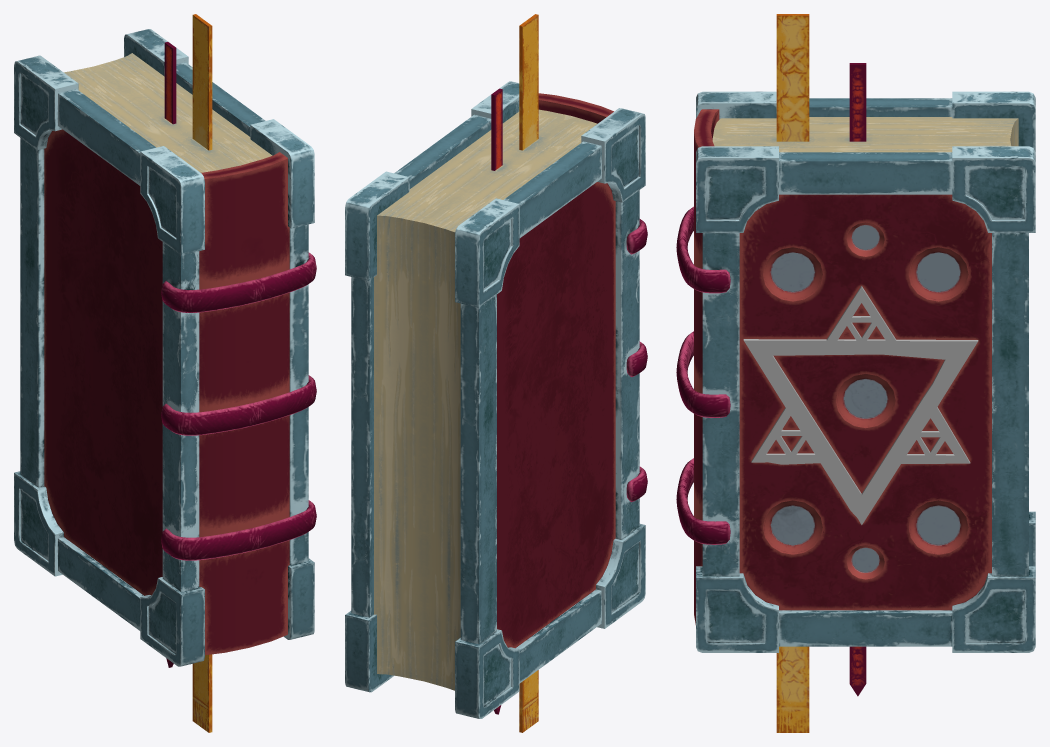
Rendered from The_Book_14.fbx.
The picture shows the model from 3 angles, left to right: view 1: azimuth 30°, elevation 25°; view 2: azimuth 150°, elevation 25°; view 3: azimuth 270°, elevation 25°; orthographic projection.
Visible parts, largest first — view 1: Book_low, Inside_1_low; view 2: Book_low, Inside_1_low; view 3: Book_low, Inside_1_low.
Boxes of the visible parts, x1=… form: Book_low: x1=14, y1=29, x2=316, y2=666; Inside_1_low: x1=64, y1=14, x2=272, y2=732; Book_low: x1=345, y1=81, x2=647, y2=718; Inside_1_low: x1=374, y1=14, x2=597, y2=732; Book_low: x1=676, y1=91, x2=1035, y2=652; Inside_1_low: x1=712, y1=14, x2=1018, y2=732.
Size of the model in its own units: 406 by 1871 by 849.
